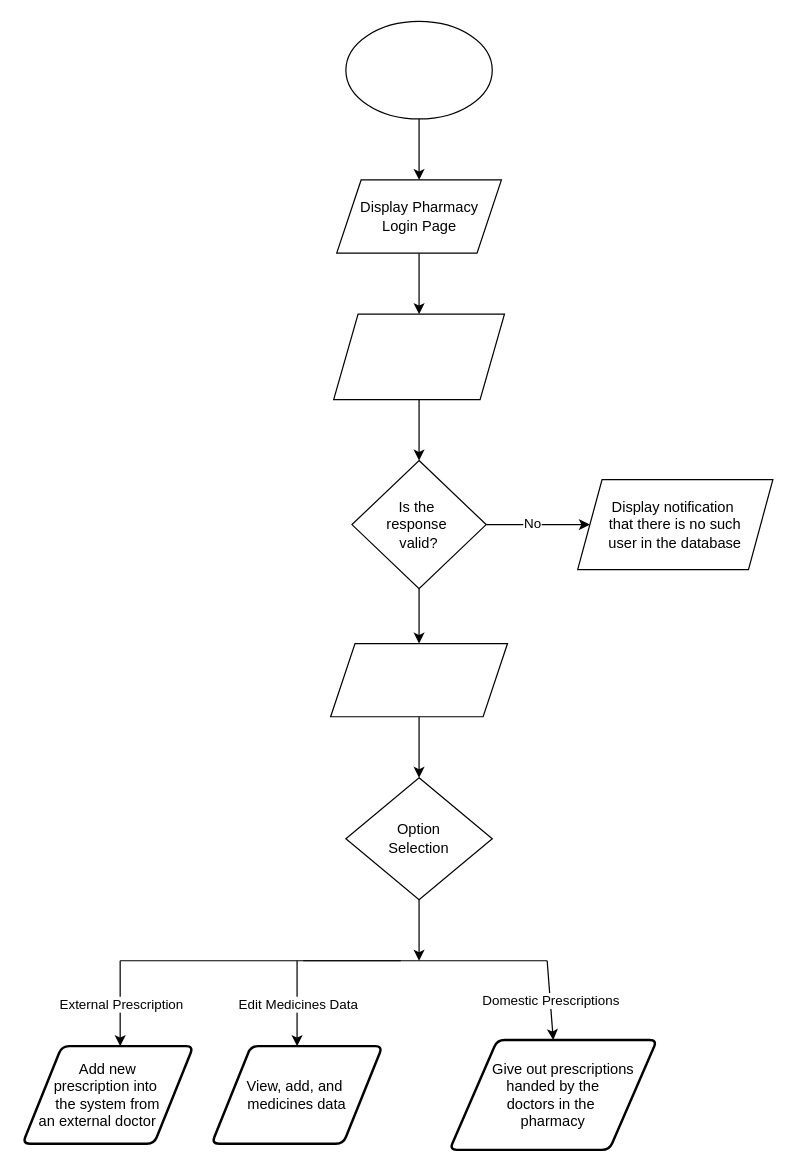
This 794x1172 diagram has some shape labels left out. Here are the shapes that lost their labels. From the top down, the centre of each, then its label:
pixel 418 69: START
pixel 418 356: Send request to the backend for verifying user data
pixel 418 679: Display Pharmacy Homepage
